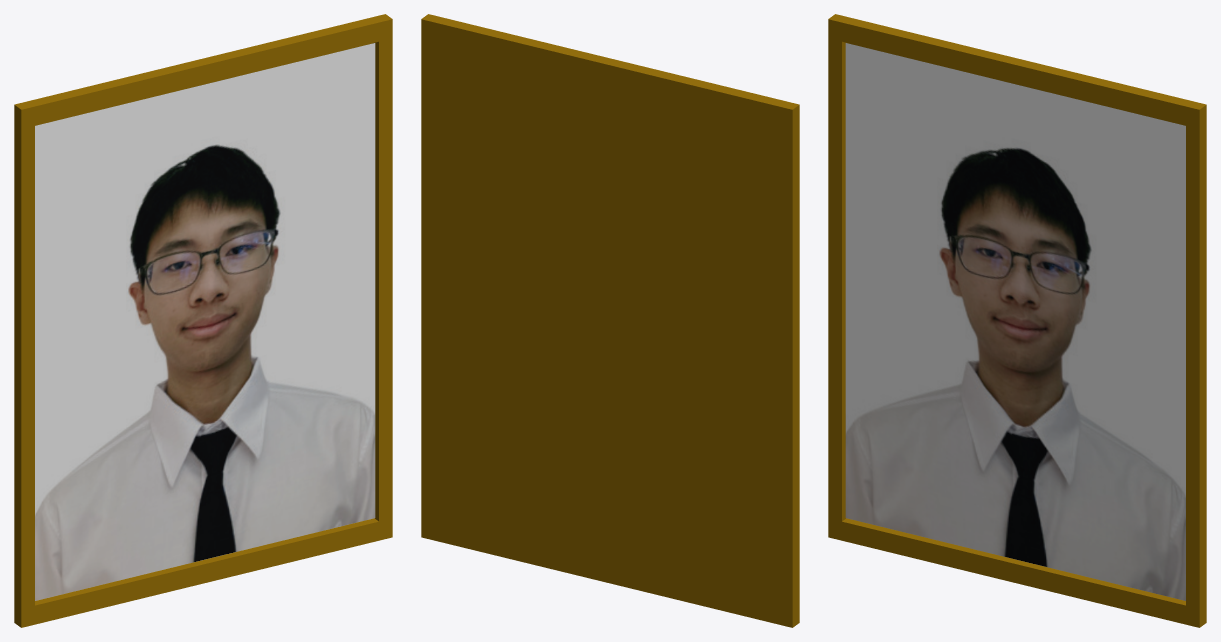
The model's file is PatPHO.fbx.
3 renders of one model, left to right at view 1: azimuth 30°, elevation 25°; view 2: azimuth 150°, elevation 25°; view 3: azimuth 330°, elevation 25°, orthographic.
Visible parts, largest first — view 1: Plane, Cube; view 2: Cube; view 3: Plane, Cube.
Part boxes in pixels (<box>): Plane: <box>35,43,375,600</box>; Cube: <box>14,14,392,627</box>; Cube: <box>421,14,799,627</box>; Plane: <box>845,43,1185,600</box>; Cube: <box>828,14,1206,627</box>.
Bounding box in the file's own units: 600 × 800 × 20.
